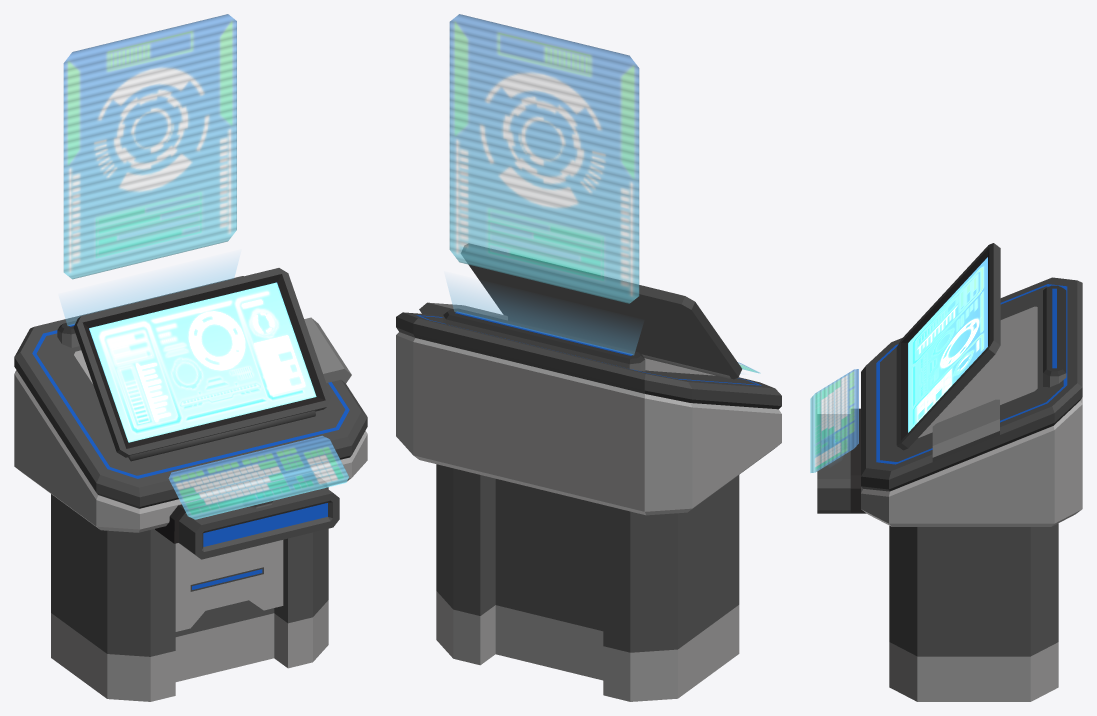
File: Terminal_009.glb
The picture shows the model from 3 angles, left to right: view 1: azimuth 30°, elevation 25°; view 2: azimuth 150°, elevation 25°; view 3: azimuth 270°, elevation 25°; orthographic projection. The views are drawn at different scales.
Parts seen in each view (by area): view 1: Terminal_009; view 2: Terminal_009; view 3: Terminal_009.
Part boxes in pixels (x1,y1,x2,y2): Terminal_009: [14, 14, 367, 701]; Terminal_009: [396, 14, 781, 701]; Terminal_009: [810, 243, 1082, 701].
Size of the model in its own units: 1.11 by 2.26 by 0.9374.
5 materials, 5 textured.
